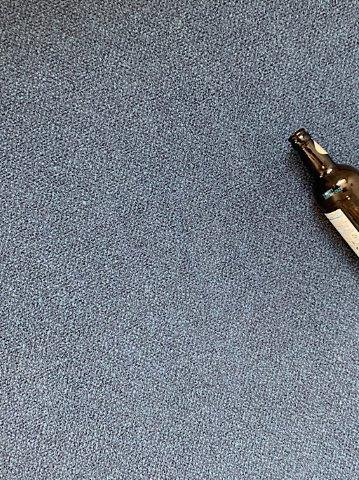botolkaca: (288, 129, 359, 264)
